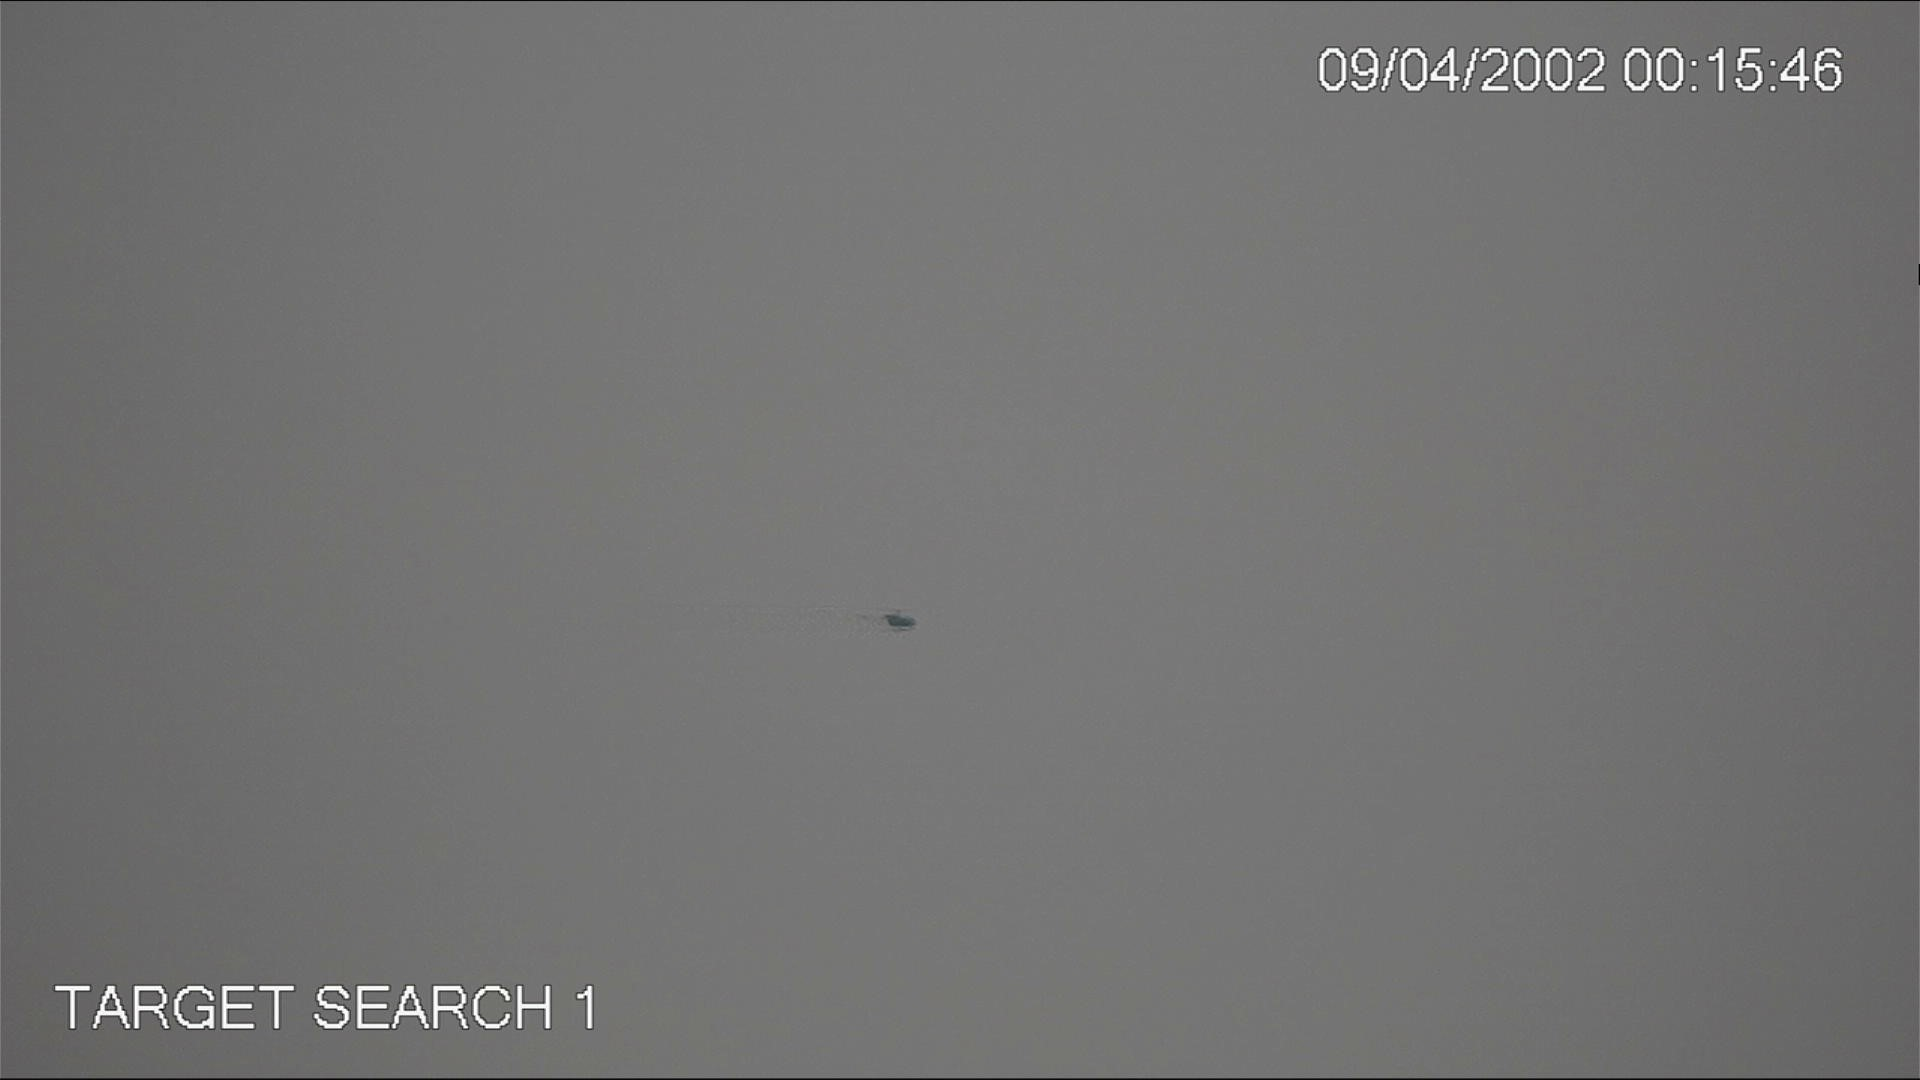SU_30: (884, 607, 919, 632)
